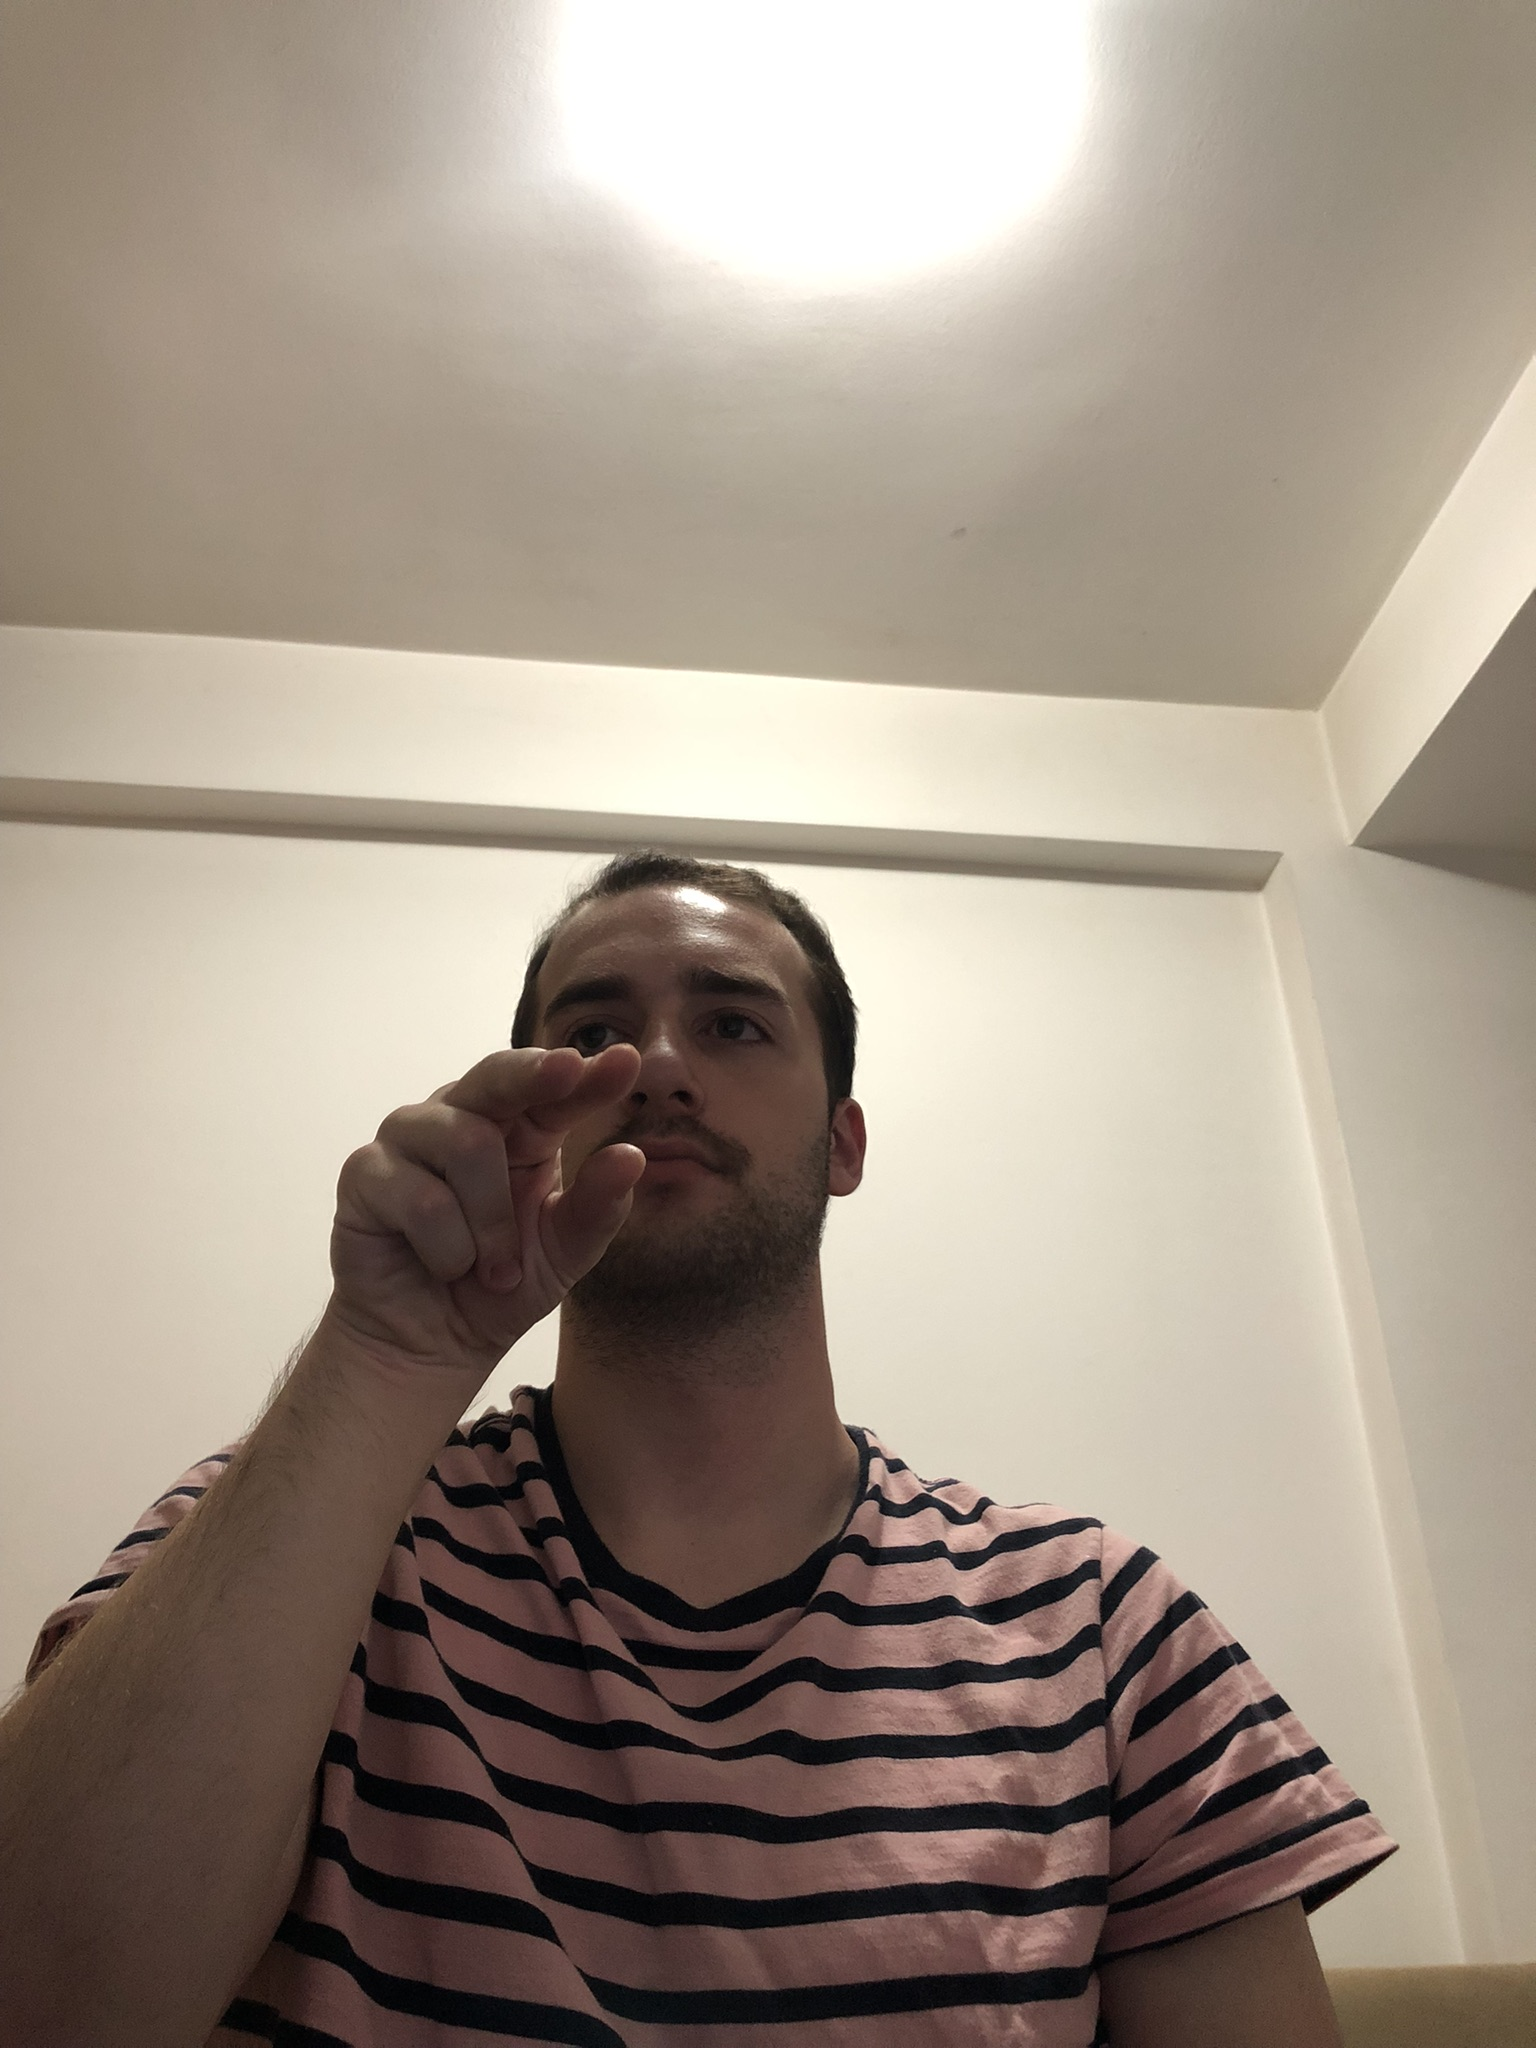No: (318, 1035, 665, 1408)
